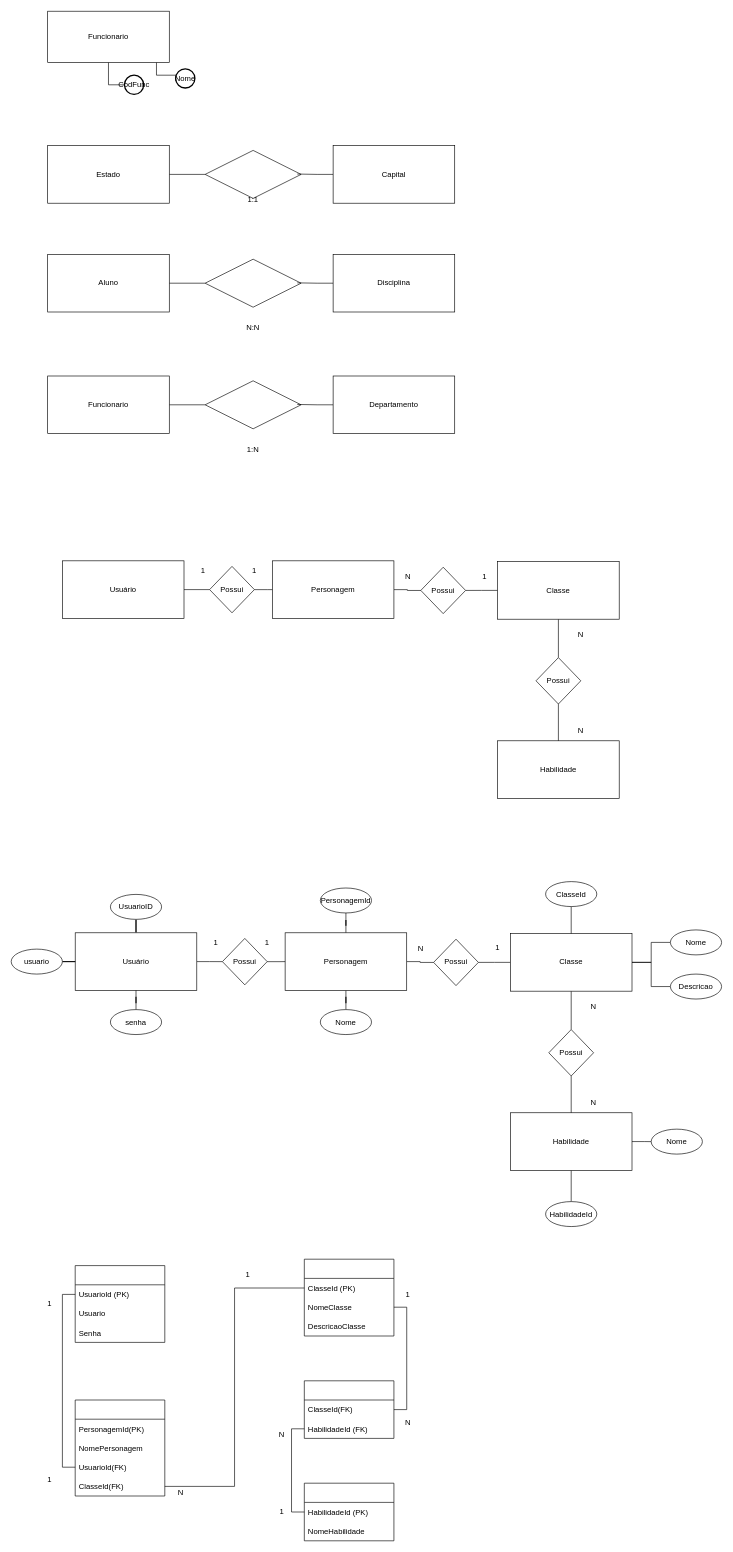
The diagram is 733 pixels wide and 1552 high, and some of its shapes have lost their labels. The box of each missing label's shape, as (x1, y1, x2, y2) in pixels:
Classes: (304, 1259, 394, 1336)
ClassesHabilidades: (304, 1380, 394, 1438)
Habilidades: (304, 1483, 394, 1541)
matriculado: (204, 259, 301, 307)
Personagens: (75, 1399, 165, 1496)
Possuí: (204, 150, 301, 198)
Trabalha: (204, 380, 301, 429)
Usuarios: (75, 1265, 165, 1342)
